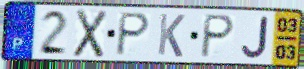2: (35, 10, 72, 55)
J: (239, 14, 271, 60)
K: (156, 12, 187, 59)
P: (114, 11, 153, 57), (198, 13, 237, 59)
X: (71, 8, 109, 60)
